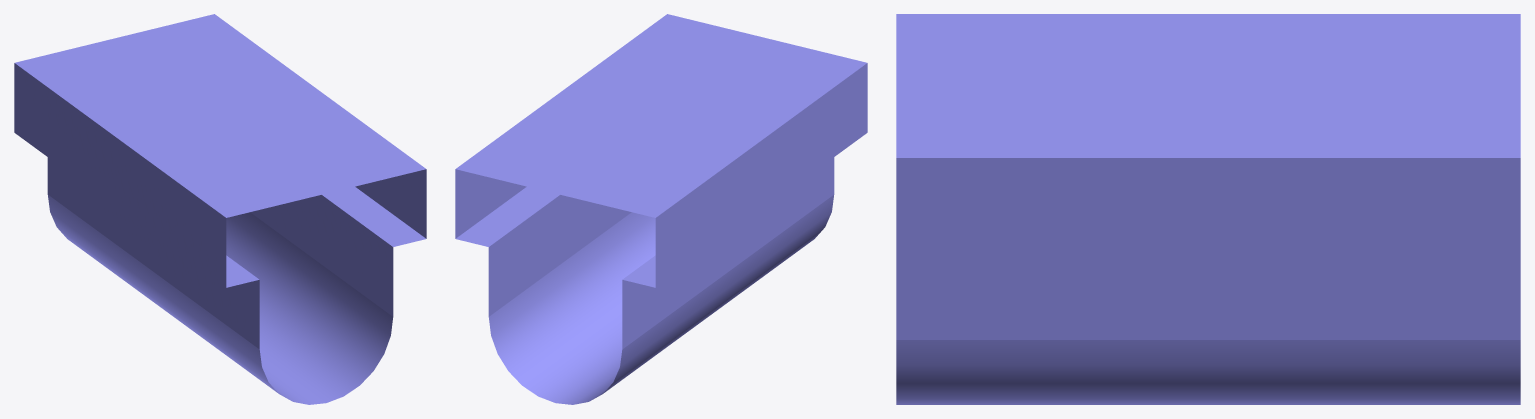
Rendered from original-10.obj.
3 renders of one model, left to right at view 1: azimuth 30°, elevation 25°; view 2: azimuth 150°, elevation 25°; view 3: azimuth 270°, elevation 25°, orthographic. The views are drawn at different scales.
Visible parts, largest first — view 1: #ID62; view 2: #ID62; view 3: #ID62.
Part boxes in pixels (<box>): #ID62: <box>14,14,426,404</box>; #ID62: <box>455,14,867,404</box>; #ID62: <box>896,14,1520,404</box>.
Bounding box in the file's own units: 0.0715 × 0.0715 × 0.1311.
